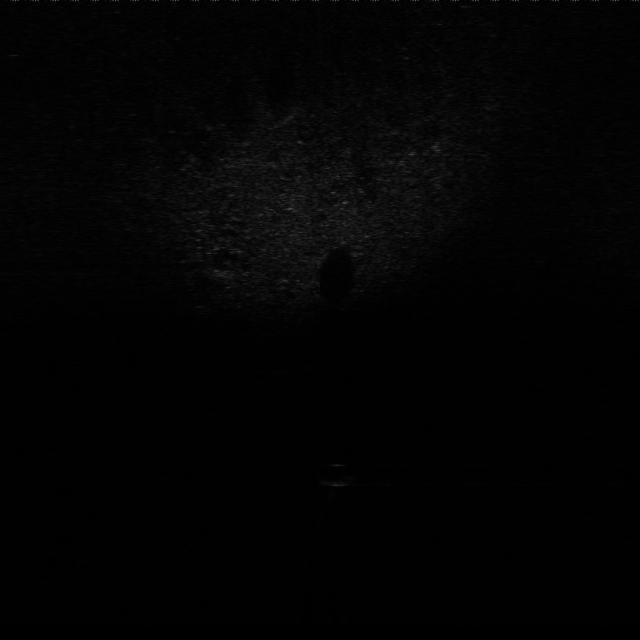ball: (314, 459, 360, 489)
